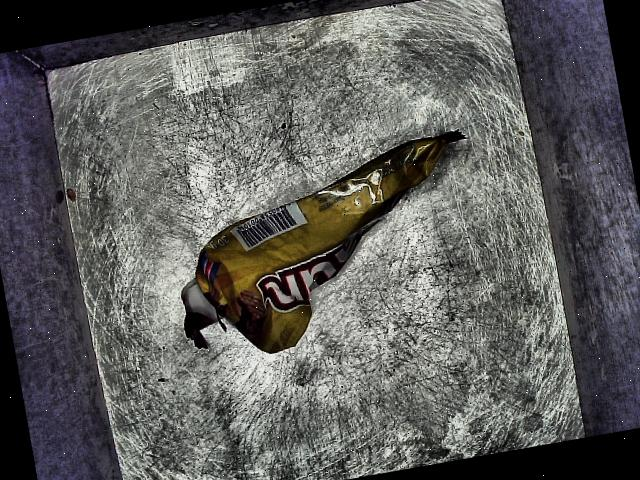Plastic: (145, 112, 512, 382)
